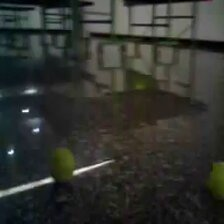tennis: (49, 148, 77, 183)
